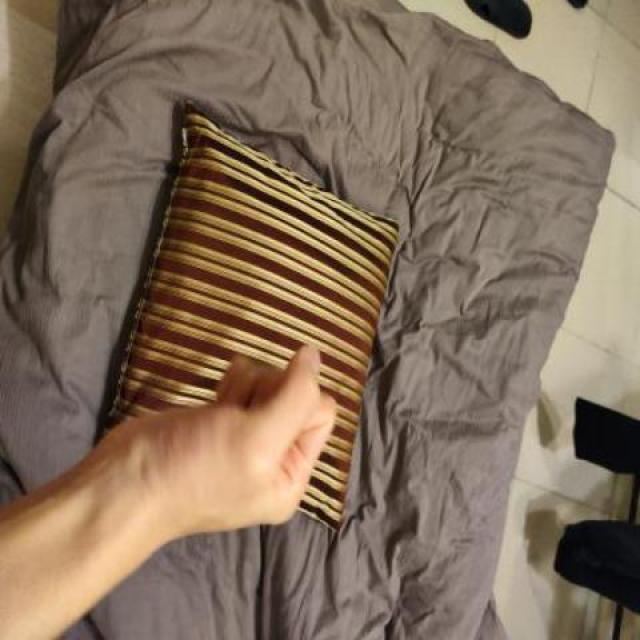Closed Hand: (66, 339, 345, 572)
